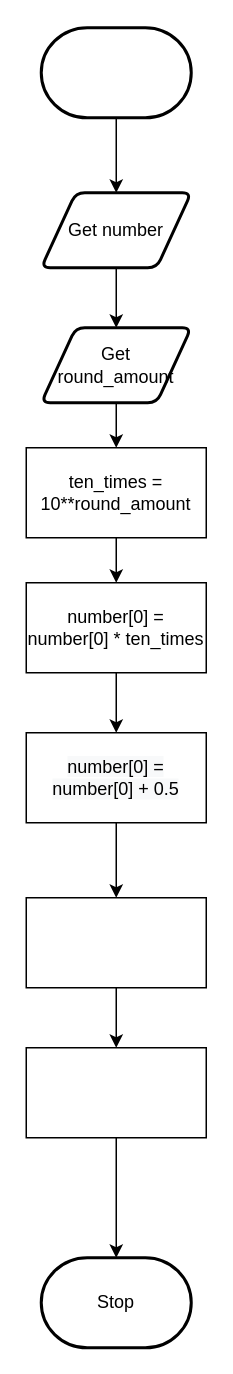
The diagram is 233 pixels wide and 1374 high, and some of its shapes have lost their labels. The shapes that lost their labels are listed below. From the top down, each one's centre as x and y in pixels, then its label:
[115,72]: Start
[115,942]: number[0] = int(number[0])
[115,1092]: number[0] = number[0] / ten_times
